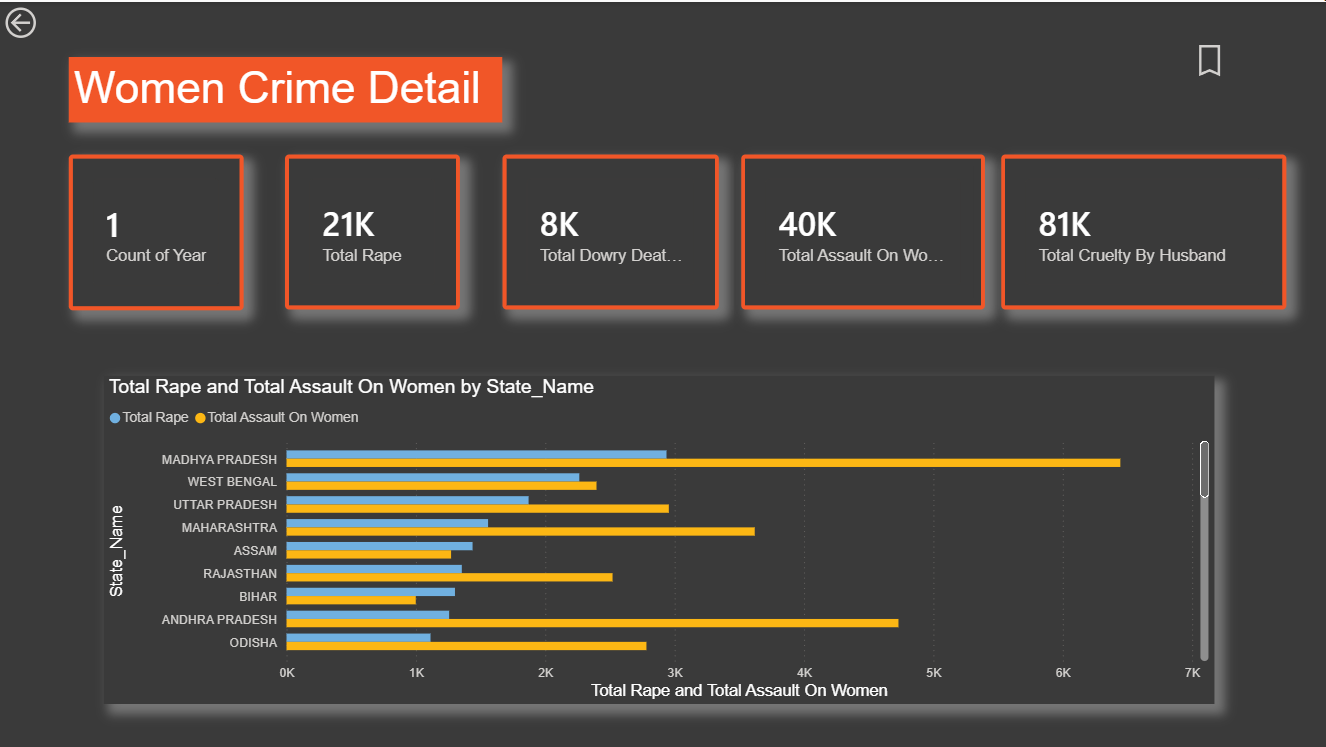

Layout of this report page (visuals, bound fields, positions):
{"tool":"powerbi","page":{"name":"Women crime year detail","canvas":[1280,720],"ordinal":5},"visuals":[{"type":"actionButton","box":[0,0,100,40],"z":0},{"type":"textbox","box":[66.4,53.4,418.4,63.5],"z":1000},{"type":"cardVisual","fields":{"Data":["CountNonNull(Year_Table.Year)"]},"box":[66.4,147.2,168.8,150],"z":2000},{"type":"cardVisual","fields":{"Data":["Crime_Summary.Total Rape"]},"box":[275.1,147.2,168.9,149.6],"z":3000},{"type":"cardVisual","fields":{"Data":["Crime_Summary.Total Dowry Deaths"]},"box":[485,147.2,208.7,149.6],"z":4000},{"type":"cardVisual","fields":{"Data":["Women_Crimes.Total Assault On Women"]},"box":[715.4,147.2,235.3,149.6],"z":5000},{"type":"cardVisual","fields":{"Data":["Women_Crimes.Total Cruelty By Husband"]},"box":[966.4,147.2,275.1,149.6],"z":6000},{"type":"clusteredBarChart","fields":{"Category":["States.State_Name"],"Y":["Crime_Summary.Total Rape","Women_Crimes.Total Assault On Women"]},"box":[99.8,360.5,1071.7,316.9],"z":7000},{"type":"actionButton","box":[1147,36.1,99.6,40.4],"z":8000}]}

Visuals, with their boxes in screenshot pixels (x1, y1, x2, y2), scaled from the page's 1280x720 canvas onto the 1326x747 screenshot:
actionButton: bbox=[0, 0, 104, 42]
textbox: bbox=[69, 55, 502, 121]
cardVisual - CountNonNull(Year_Table.Year): bbox=[69, 153, 244, 308]
cardVisual - Crime_Summary.Total Rape: bbox=[285, 153, 460, 308]
cardVisual - Crime_Summary.Total Dowry Deaths: bbox=[502, 153, 719, 308]
cardVisual - Women_Crimes.Total Assault On Women: bbox=[741, 153, 985, 308]
cardVisual - Women_Crimes.Total Cruelty By Husband: bbox=[1001, 153, 1286, 308]
clusteredBarChart - States.State_Name x Crime_Summary.Total Rape: bbox=[103, 374, 1214, 703]
actionButton: bbox=[1188, 37, 1291, 79]
